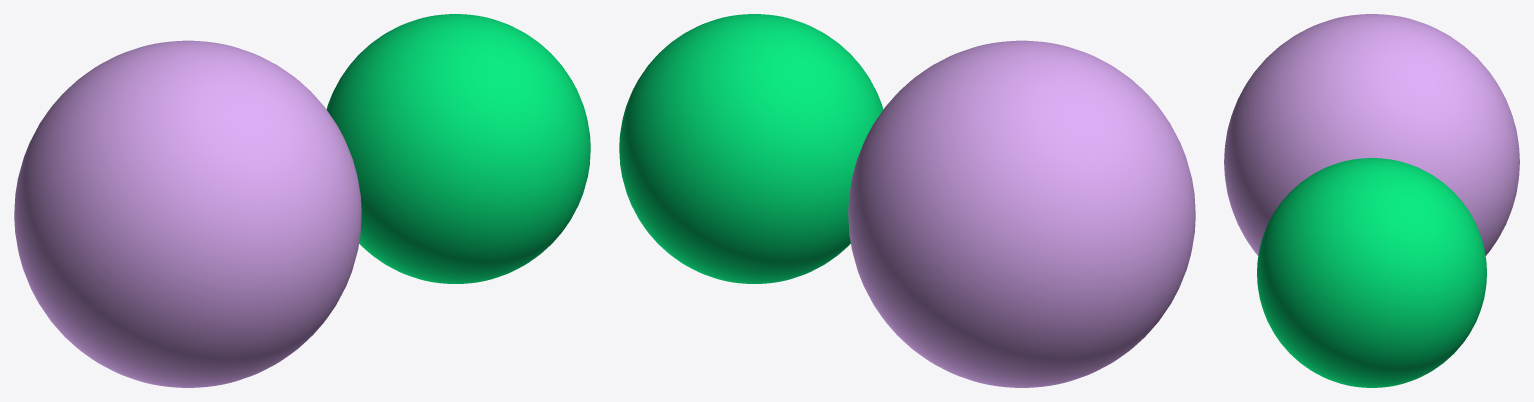
File: KCl.glb
3 renders of one model, left to right at view 1: azimuth 30°, elevation 25°; view 2: azimuth 150°, elevation 25°; view 3: azimuth 270°, elevation 25°, orthographic. The views are drawn at different scales.
Visible parts, largest first — view 1: K, Cl; view 2: K, Cl; view 3: K, Cl.
Part boxes in pixels (x1=…): K: x1=14, y1=40, x2=361, y2=387; Cl: x1=326, y1=14, x2=590, y2=283; K: x1=848, y1=40, x2=1195, y2=387; Cl: x1=619, y1=14, x2=883, y2=283; K: x1=1224, y1=14, x2=1519, y2=255; Cl: x1=1257, y1=158, x2=1486, y2=387.
Bounding box in the file's own units: 3.2 × 1.8 × 1.8.
